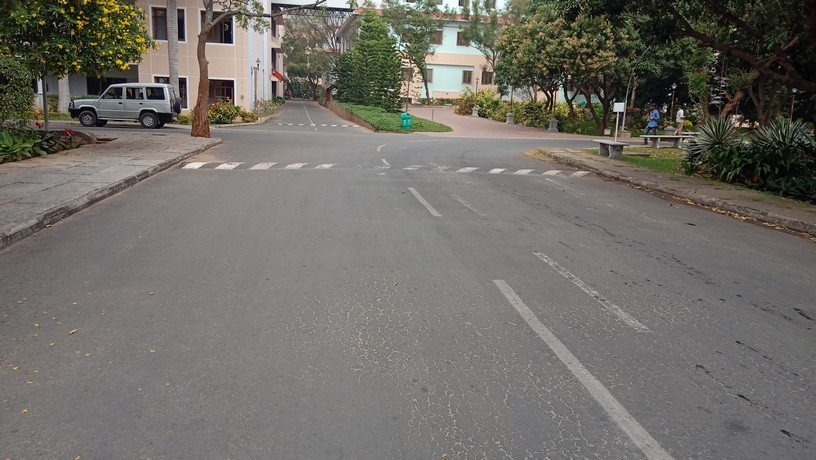bump: (178, 156, 595, 180)
